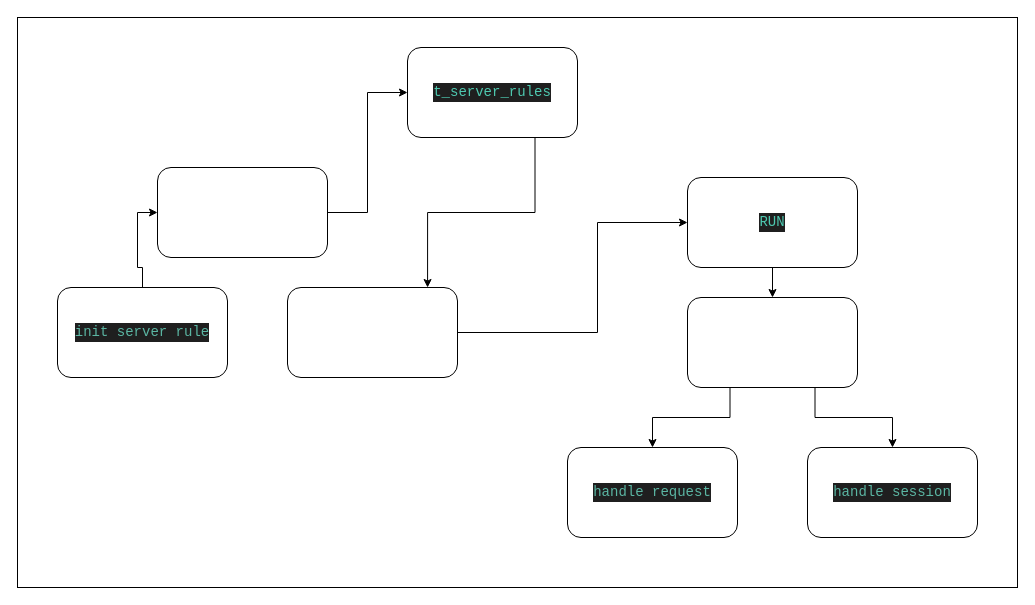
The diagram is 1035 pixels wide and 605 high, and some of its shapes have lost their labels. Each missing label, with the box of its shape:
build server: (286, 286, 458, 378)
INIT: (156, 166, 328, 258)
run_server: (686, 296, 858, 388)
